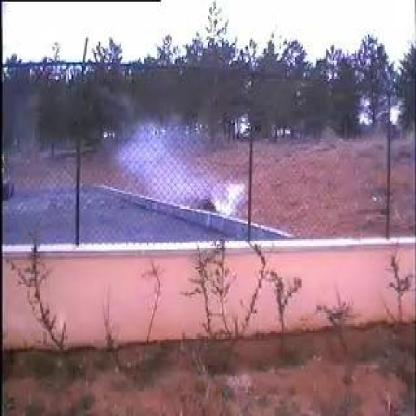-: (61, 122, 252, 242)
